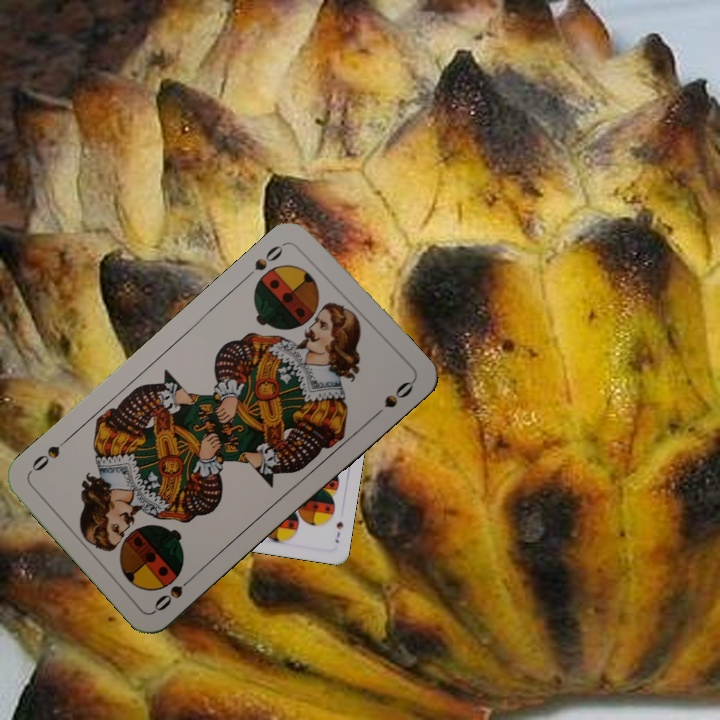S7: (331, 517, 346, 545)
SO: (150, 569, 199, 615), (242, 237, 292, 281)
